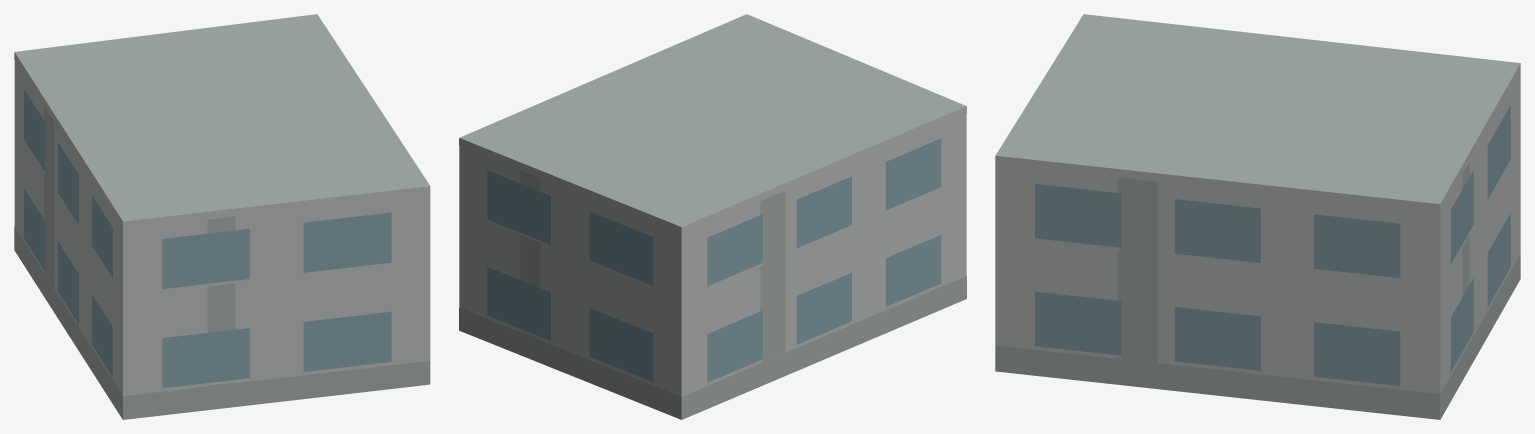
File: survey-upis-32871900.glb
3 views of the same model, side by side, from view 1: azimuth 30°, elevation 25°; view 2: azimuth 150°, elevation 25°; view 3: azimuth 270°, elevation 25° (orthographic). The views are drawn at different scales.
Visible parts, largest first — view 1: survey-upis-32871900.tmp; view 2: survey-upis-32871900.tmp; view 3: survey-upis-32871900.tmp.
Part boxes in pixels (x1=…): survey-upis-32871900.tmp: x1=14, y1=14, x2=430, y2=419; survey-upis-32871900.tmp: x1=459, y1=14, x2=966, y2=419; survey-upis-32871900.tmp: x1=995, y1=14, x2=1520, y2=419.
Size of the model in its own units: 11.54 by 6.1 by 13.47.
